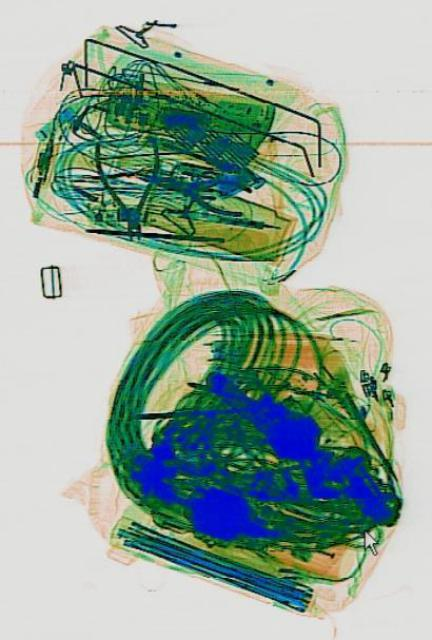Pliers: (90, 127, 167, 249), (133, 157, 251, 221)
